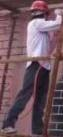boots: (1, 125, 17, 136), (1, 1, 1, 1)
hard-hat: (29, 0, 48, 13)
